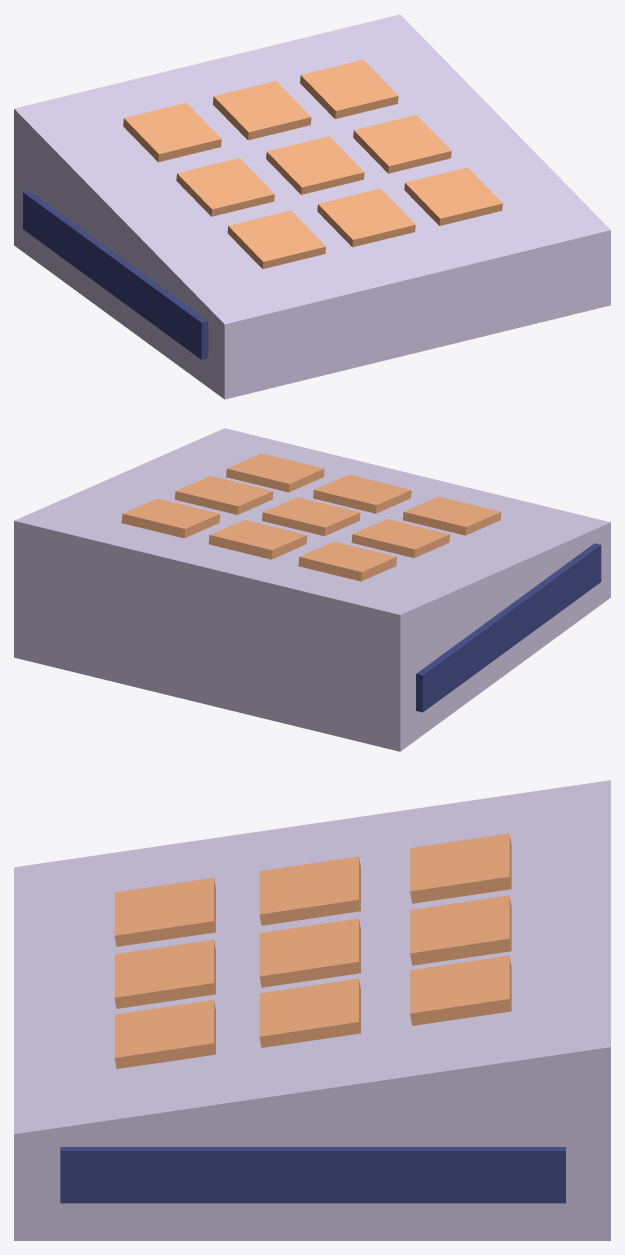
The model's file is pad_music.glb.
3 renders of one model, top to bottom at view 1: azimuth 30°, elevation 25°; view 2: azimuth 150°, elevation 25°; view 3: azimuth 270°, elevation 25°, orthographic. The views are drawn at different scales.
Parts seen in each view (by area): view 1: Pad, Keys, Side; view 2: Pad, Keys, Side; view 3: Pad, Keys, Side.
Part boxes in pixels (<box>): Pad: <box>14,14,610,399</box>; Keys: <box>123,59,502,268</box>; Side: <box>23,190,208,359</box>; Pad: <box>14,428,610,751</box>; Keys: <box>121,453,501,581</box>; Side: <box>416,543,601,712</box>; Pad: <box>14,780,610,1240</box>; Keys: <box>114,833,511,1068</box>; Side: <box>60,1147,565,1203</box>.
Bounding box in the file's own units: 1.48 × 0.4849 × 1.35.
